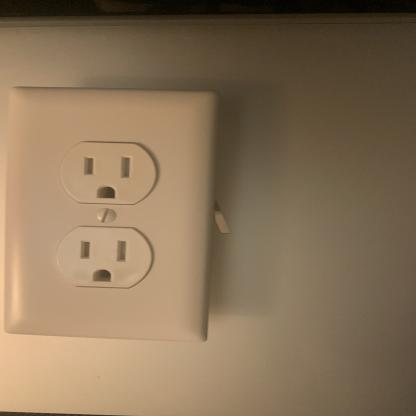OUTLET: (3, 90, 218, 338)
